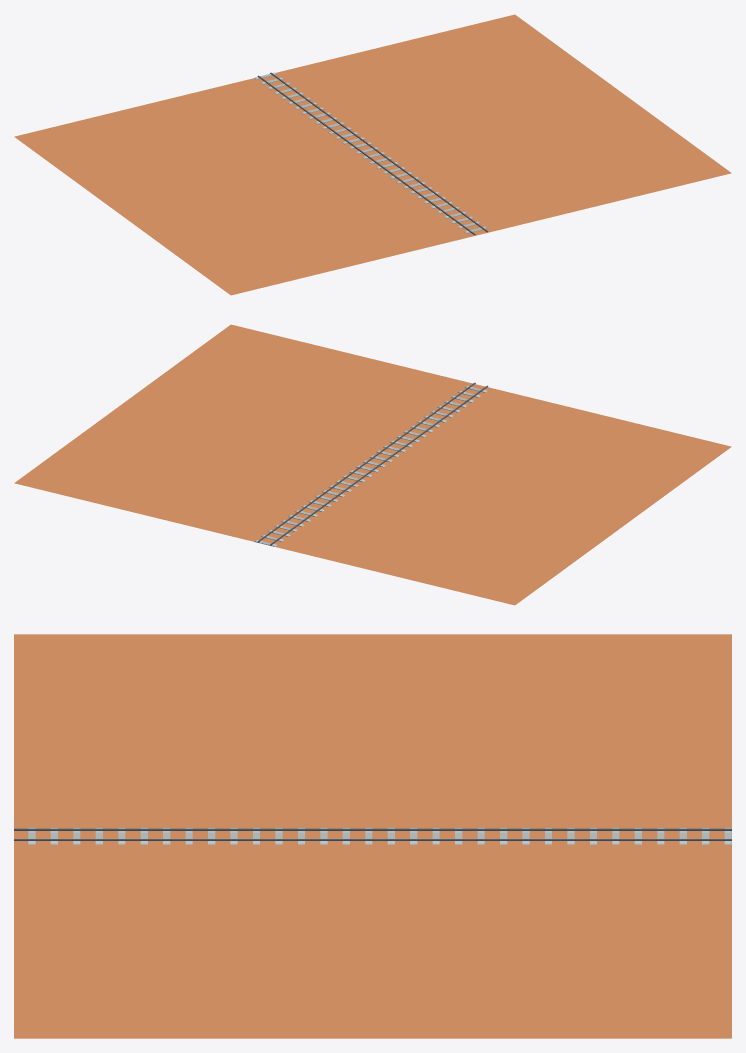
Rendered from Wastelands_Road_Straight_001.fbx.
3 renders of one model, top to bottom at view 1: azimuth 30°, elevation 25°; view 2: azimuth 150°, elevation 25°; view 3: azimuth 270°, elevation 25°, orthographic. The views are drawn at different scales.
Visible parts, largest first — view 1: Wastelands_Road_Straight_001, Wastelands_Road_Straight_001_Sleepers, Wastelands_Road_Straight_001_Rails; view 2: Wastelands_Road_Straight_001, Wastelands_Road_Straight_001_Sleepers, Wastelands_Road_Straight_001_Rails; view 3: Wastelands_Road_Straight_001, Wastelands_Road_Straight_001_Rails, Wastelands_Road_Straight_001_Sleepers.
Boxes of the visible parts, bbox=[...] form: Wastelands_Road_Straight_001: bbox=[14, 14, 731, 295]; Wastelands_Road_Straight_001_Sleepers: bbox=[254, 72, 487, 233]; Wastelands_Road_Straight_001_Rails: bbox=[257, 72, 488, 235]; Wastelands_Road_Straight_001: bbox=[14, 324, 731, 605]; Wastelands_Road_Straight_001_Sleepers: bbox=[254, 386, 487, 546]; Wastelands_Road_Straight_001_Rails: bbox=[257, 382, 488, 545]; Wastelands_Road_Straight_001: bbox=[14, 634, 731, 1038]; Wastelands_Road_Straight_001_Rails: bbox=[14, 828, 731, 840]; Wastelands_Road_Straight_001_Sleepers: bbox=[28, 827, 731, 844].
Size of the model in its own units: 200 by 0.5597 by 150.
